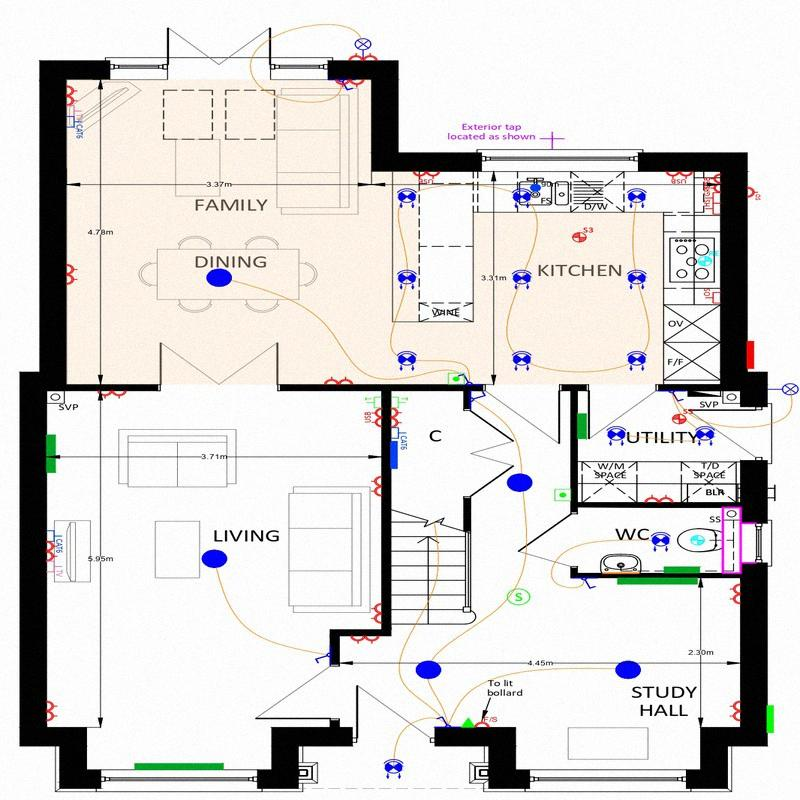BT Entry Point: (462, 718, 473, 727)
Cat 6 Data Socket: (391, 427, 407, 451), (67, 116, 83, 138), (47, 530, 62, 553)
Ceiling Mounted Continuous Extract FanWith Boost Mode Activated By Light Switch: (691, 535, 705, 546)
Ceiling Mounted Continuous Extract FanWith Local Boost Switch: (572, 227, 593, 243), (672, 408, 693, 424)
Co-Ax TV Socket: (67, 104, 82, 119), (47, 562, 62, 576)
D: (349, 52, 377, 60)
Double Socket: (336, 78, 362, 88), (66, 264, 78, 285), (324, 376, 353, 384), (350, 636, 379, 644), (67, 85, 78, 106), (370, 603, 381, 624), (391, 408, 403, 427), (645, 494, 673, 502), (98, 391, 126, 399), (370, 476, 381, 496), (729, 584, 740, 604), (47, 542, 58, 562), (47, 701, 57, 722), (729, 701, 740, 720)
Electric Meter Box: (746, 341, 754, 369)
External Wall Light: (768, 383, 799, 395), (354, 38, 371, 57)
Fused spur: (475, 716, 497, 727)
Gas Meter Box: (766, 705, 774, 733)
Grid Switch: (704, 185, 720, 203)
Hob Switch: (704, 200, 720, 214)
Light Switch: (339, 78, 354, 91), (669, 391, 684, 403), (315, 652, 330, 664), (458, 373, 473, 384), (471, 391, 486, 402), (436, 716, 451, 726)
Low Energy Downlighter: (396, 269, 417, 290), (511, 269, 532, 290), (512, 350, 532, 371), (695, 425, 715, 446), (396, 188, 416, 208), (397, 350, 417, 370), (627, 188, 647, 208), (627, 269, 647, 289), (606, 426, 626, 446), (651, 532, 671, 552), (627, 350, 646, 371), (512, 188, 531, 208), (384, 759, 403, 779)
Low Energy Pendant Light: (506, 473, 533, 492), (206, 268, 232, 287), (415, 660, 441, 679), (615, 661, 641, 679), (202, 550, 227, 568)
Mains Wired Smoke Detector: (507, 588, 530, 605)
Outside Socket: (747, 187, 761, 201)
Outside Tap: (540, 131, 565, 149)
Oven Switch: (704, 288, 720, 303)
Programmable Room Thermostat: (448, 373, 465, 383), (555, 489, 570, 500)
Radiator: (135, 763, 224, 770), (618, 578, 697, 585), (46, 435, 56, 473), (577, 413, 587, 439), (665, 567, 699, 573)
Recirculating Extractor Fan: (698, 251, 718, 266)
Telephone Socket: (365, 395, 381, 408), (391, 396, 409, 407)
USB Double Socket: (665, 171, 691, 185), (413, 171, 440, 184), (364, 408, 381, 427), (704, 173, 720, 192)
Underfloor Heating Manifold: (391, 441, 398, 469)
Water Entry Position: (530, 184, 541, 192)
